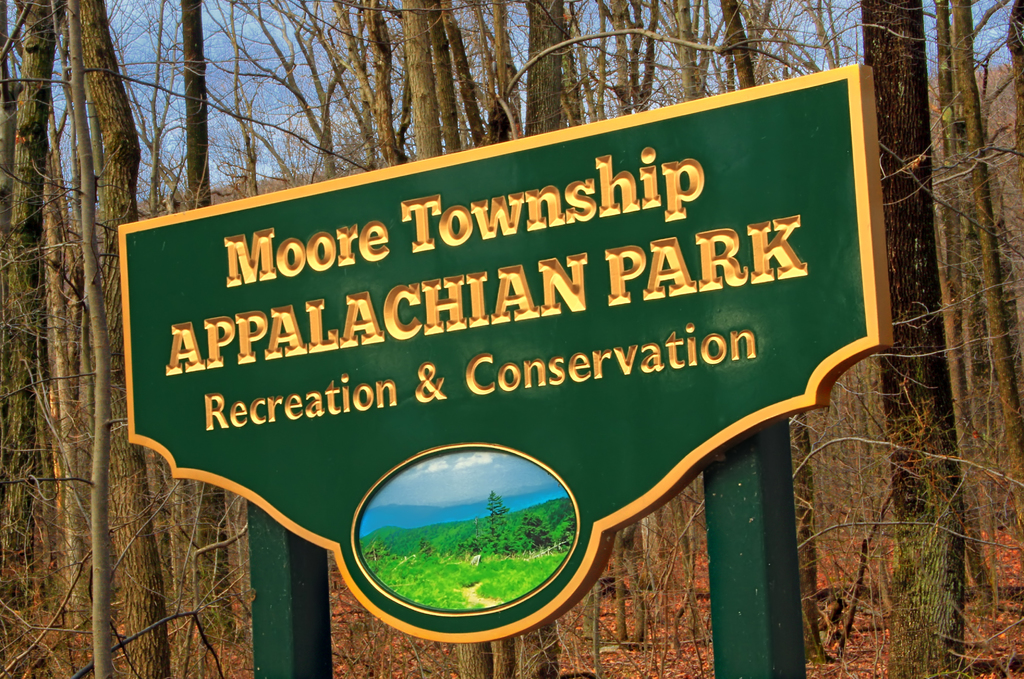Tree: (0, 0, 1023, 678), (362, 486, 574, 559)
